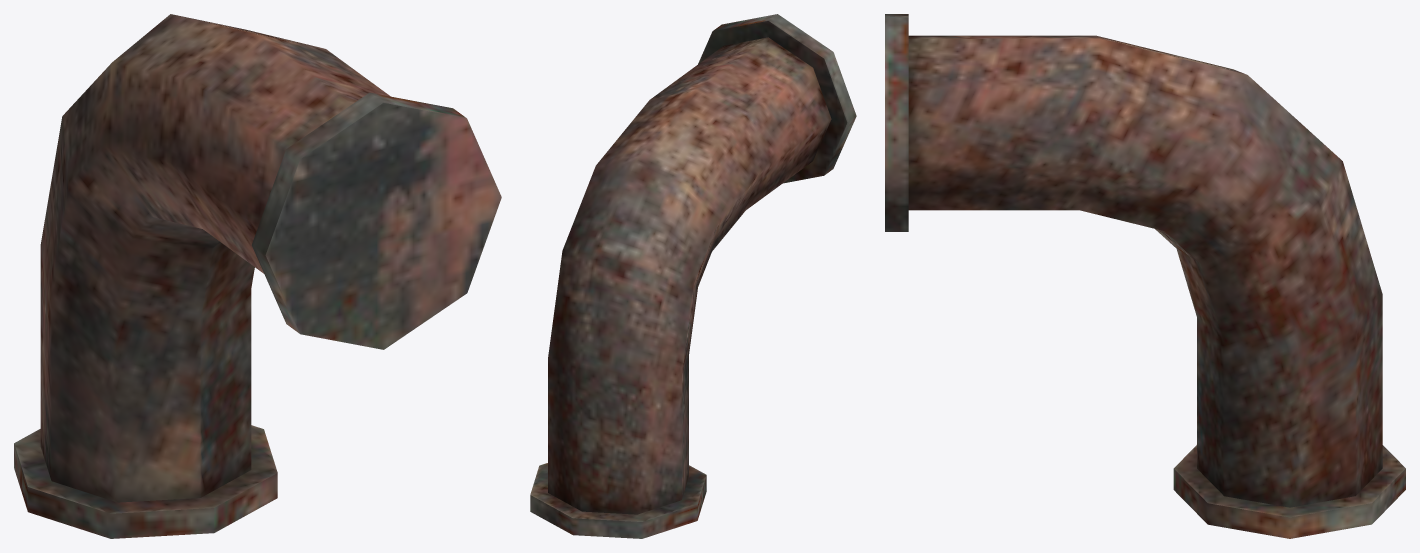
The model's file is Pipe_Connector.FBX.
3 views of the same model, side by side, from view 1: azimuth 30°, elevation 25°; view 2: azimuth 150°, elevation 25°; view 3: azimuth 270°, elevation 25° (orthographic). The views are drawn at different scales.
Visible parts, largest first — view 1: Pipe_Connector; view 2: Pipe_Connector; view 3: Pipe_Connector.
Part boxes in pixels (x1,y1,x2,y2): Pipe_Connector: (14, 14, 501, 538); Pipe_Connector: (530, 14, 856, 538); Pipe_Connector: (885, 14, 1405, 538).
Size of the model in its own units: 100 by 224 by 224.
